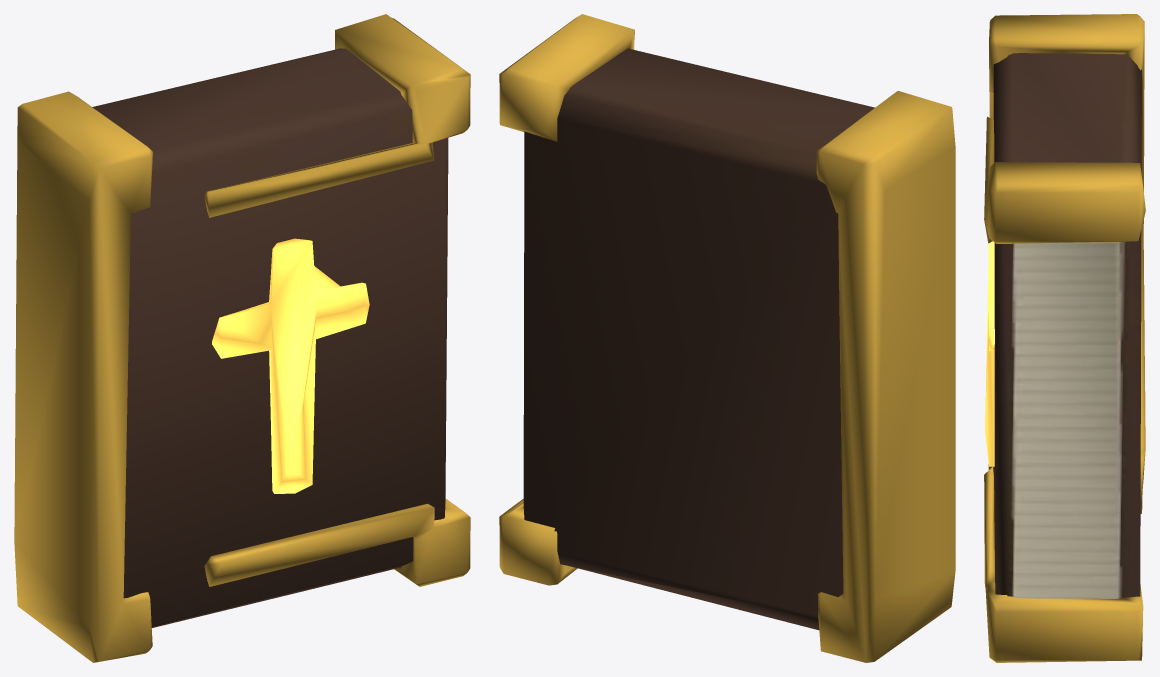
Rendered from cleric-book.glb.
3 views of the same model, side by side, from view 1: azimuth 30°, elevation 25°; view 2: azimuth 150°, elevation 25°; view 3: azimuth 270°, elevation 25° (orthographic). The views are drawn at different scales.
Visible parts, largest first — view 1: book, holy-cross; view 2: book; view 3: book, holy-cross.
Boxes of the visible parts, <box> form: book: <box>14,14,470,662</box>; holy-cross: <box>212,238,369,493</box>; book: <box>499,14,955,662</box>; book: <box>984,14,1145,662</box>; holy-cross: <box>985,241,994,466</box>.
Size of the model in its own units: 0.2166 by 0.2759 by 0.084.
2 materials, 2 textured.
